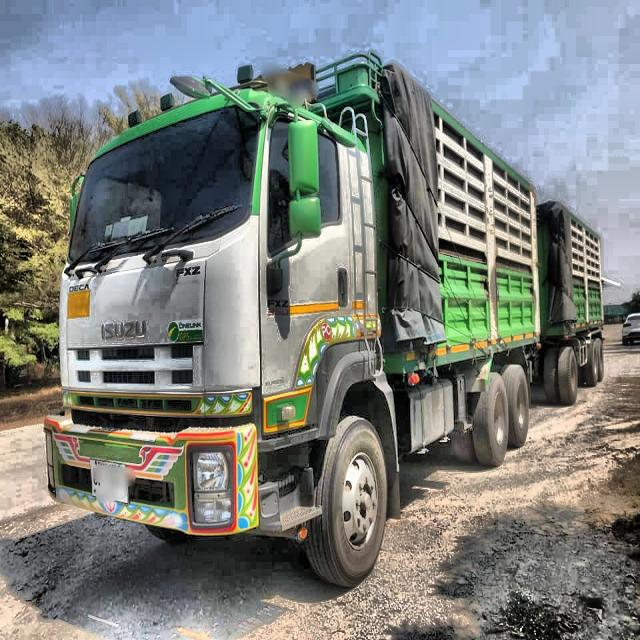trailer: (48, 52, 604, 591)
